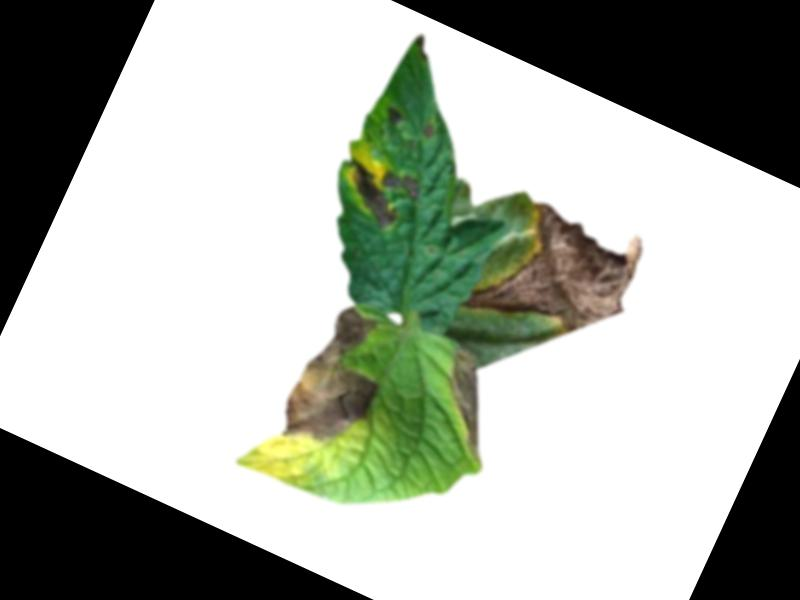Early_blight: (460, 178, 655, 370), (272, 295, 411, 465), (413, 343, 519, 463), (328, 150, 425, 238), (408, 32, 437, 63), (379, 104, 405, 129), (417, 119, 438, 139)
